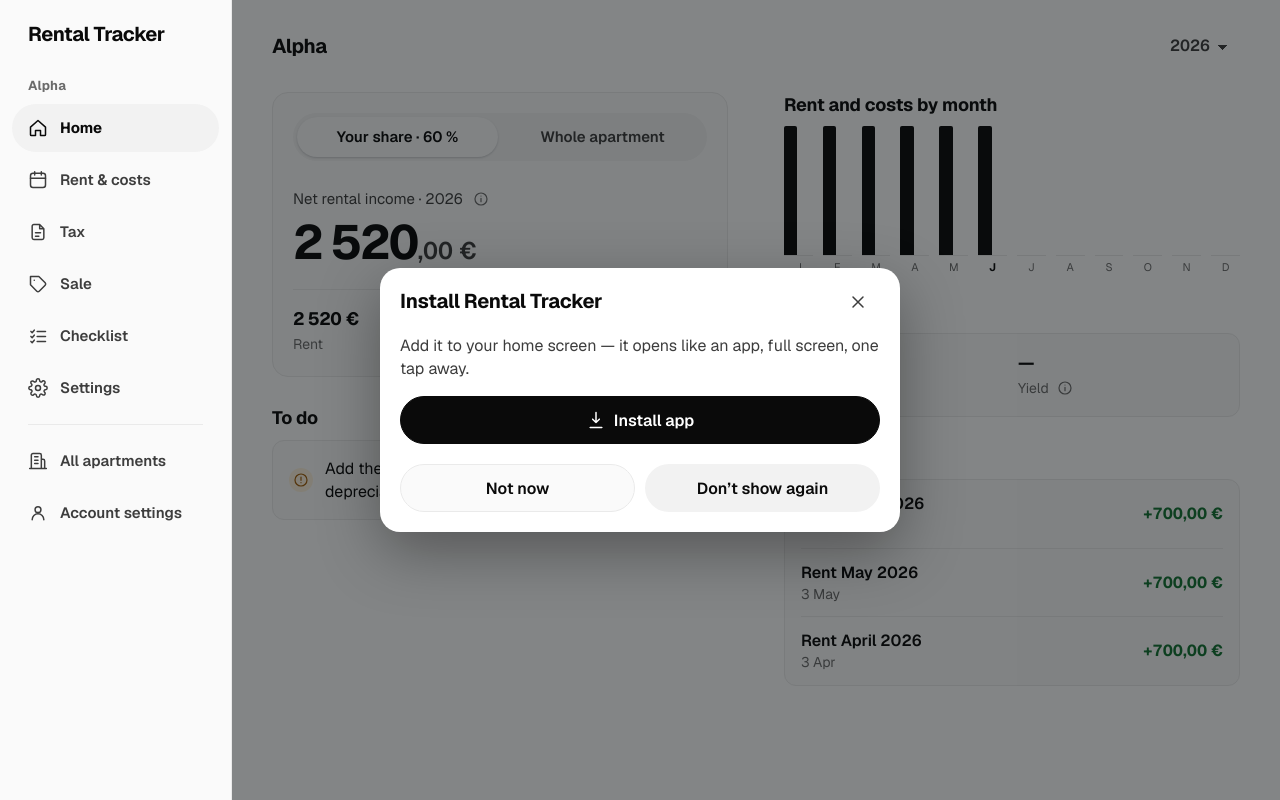
Test: settings topics › lists the topics with a one-line summary of each
The width and height of the screenshot is (1280, 800).
What coordinates should you click on to do the following:
click the button "Settings"
I would click on:
 (116, 388)
Its box is x1=12 y1=364 x2=219 y2=412.
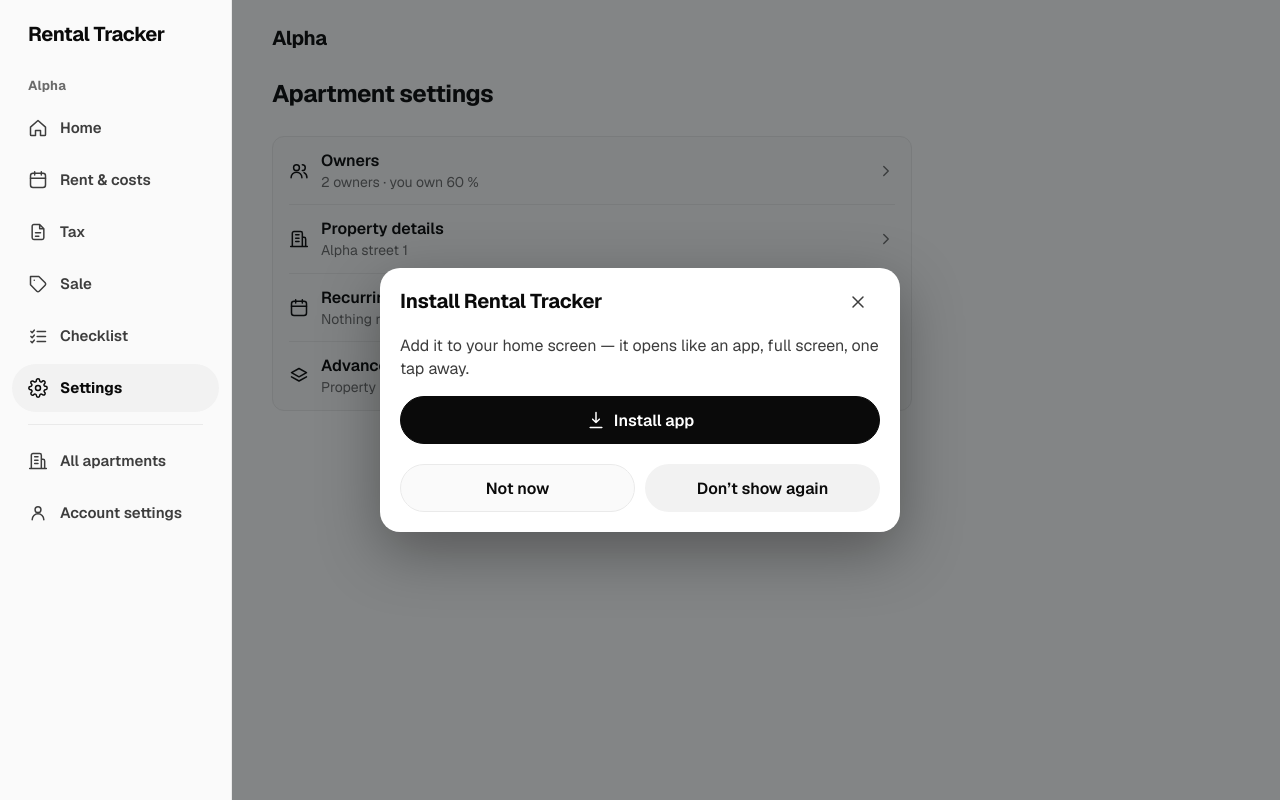
Check: the button "Owners 2 owners · you own 60 %" is shown, box x1=289 y1=137 x2=895 y2=205
Check: the button "Property details Alpha street 1" is shown, box x1=289 y1=205 x2=895 y2=274
Check: the button "Advanced Property of my own · Building depreciation 2.5 %" is shown, box x1=289 y1=342 x2=895 y2=410
